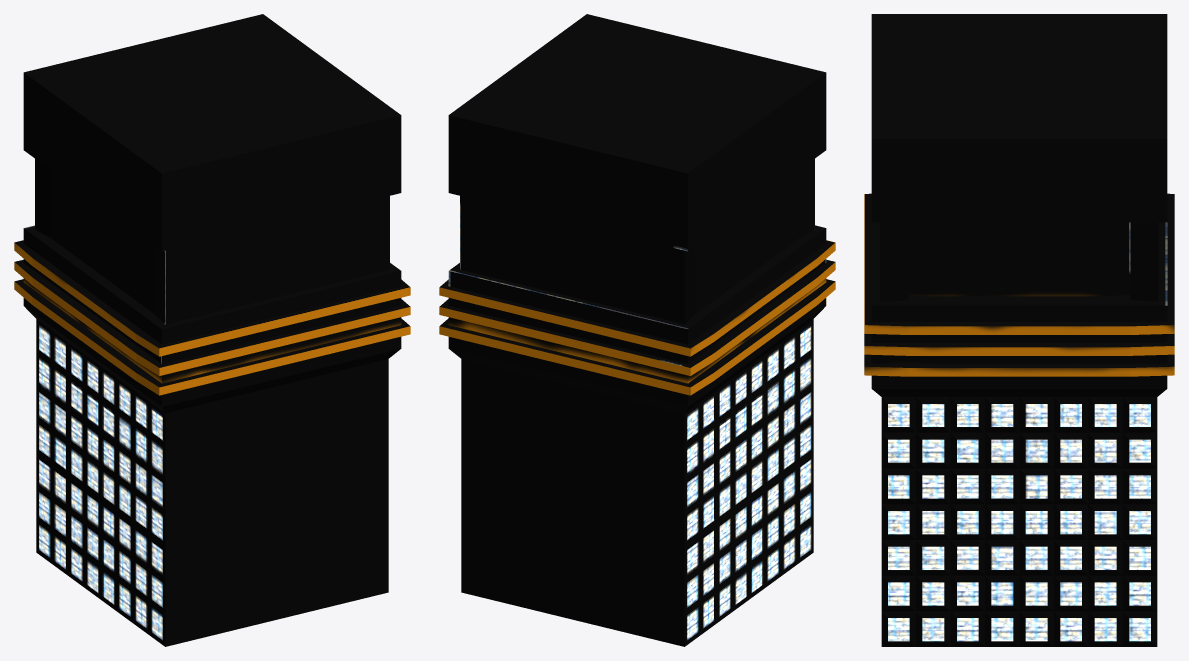
The model's file is b_building_2.fbx.
The picture shows the model from 3 angles, left to right: view 1: azimuth 30°, elevation 25°; view 2: azimuth 150°, elevation 25°; view 3: azimuth 270°, elevation 25°; orthographic projection. The views are drawn at different scales.
Parts seen in each view (by area): view 1: bake; view 2: bake; view 3: bake.
Boxes of the visible parts, x1=… form: bake: x1=14, y1=14, x2=410, y2=646; bake: x1=439, y1=14, x2=835, y2=646; bake: x1=864, y1=14, x2=1174, y2=646.
Size of the model in its own units: 986 by 1763 by 968.
1 material, 1 textured.
